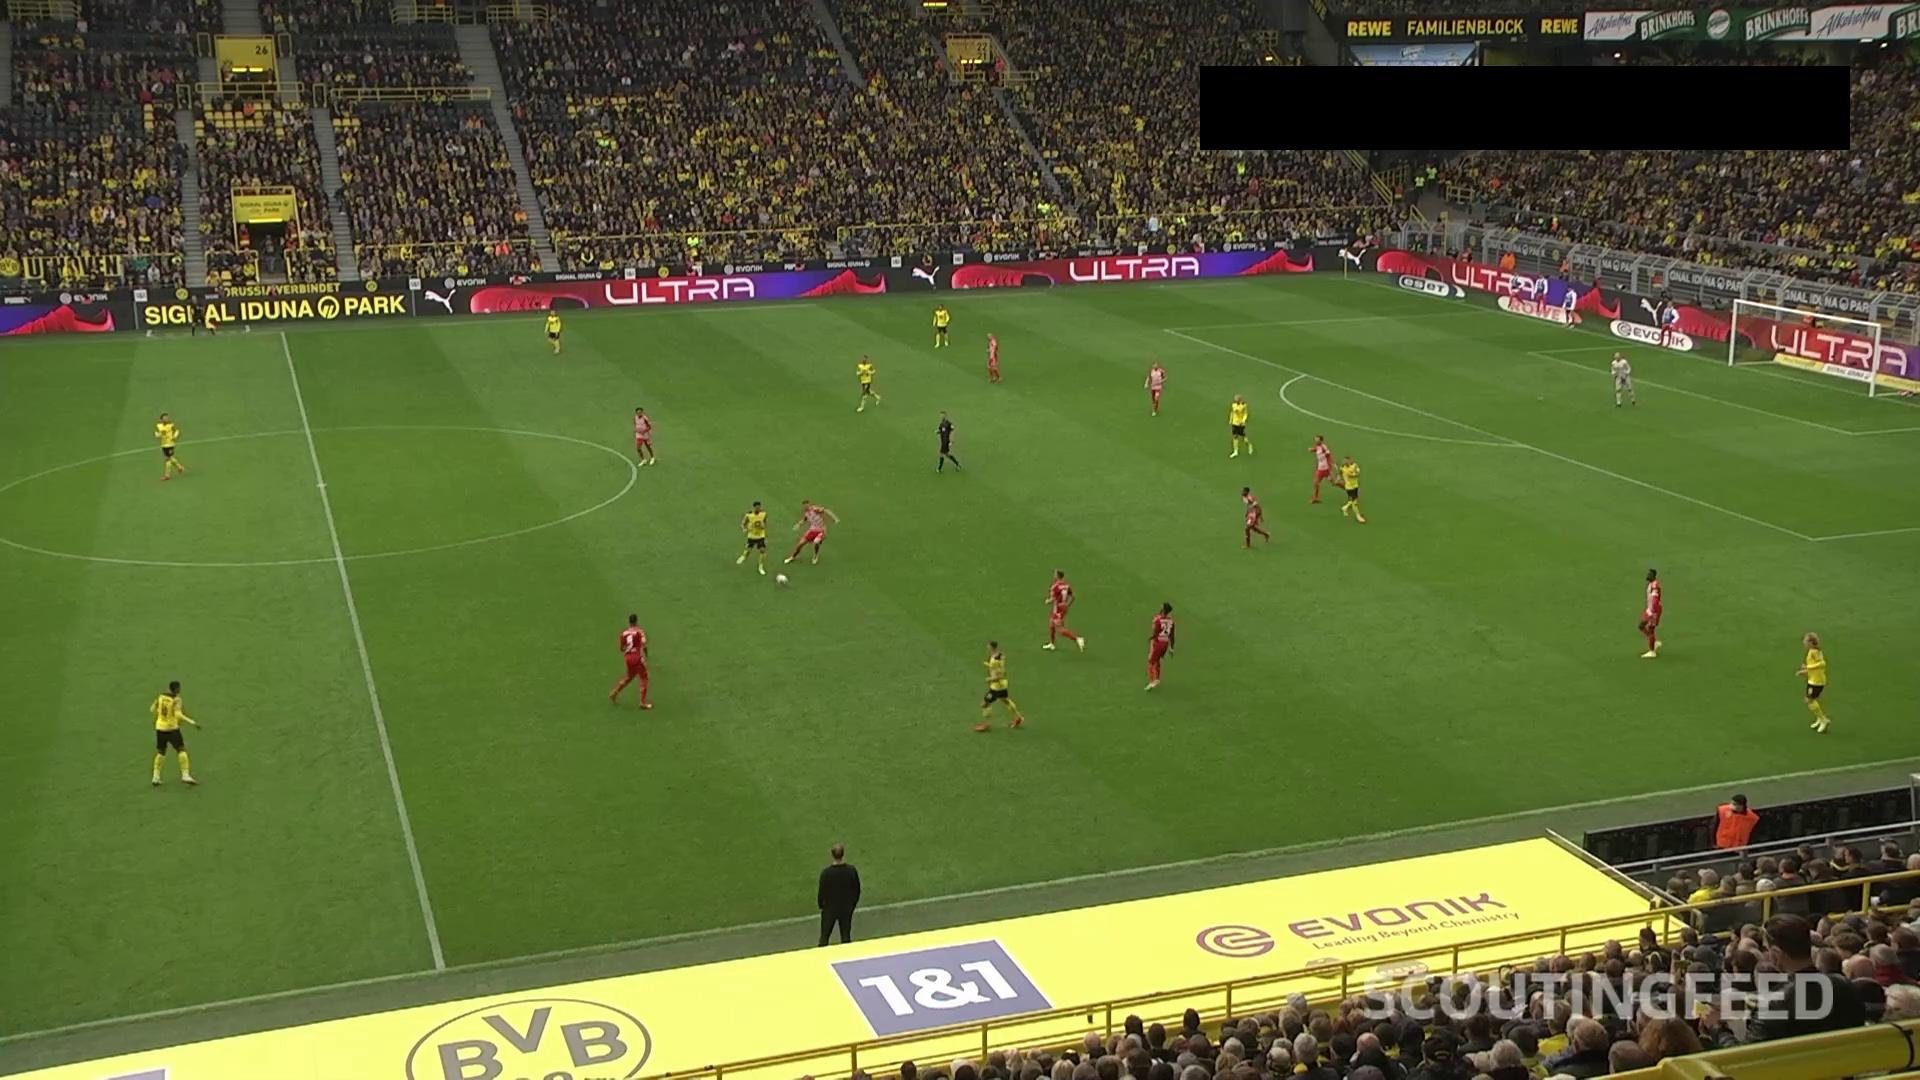Location-of-ball: (770, 570, 798, 589)
